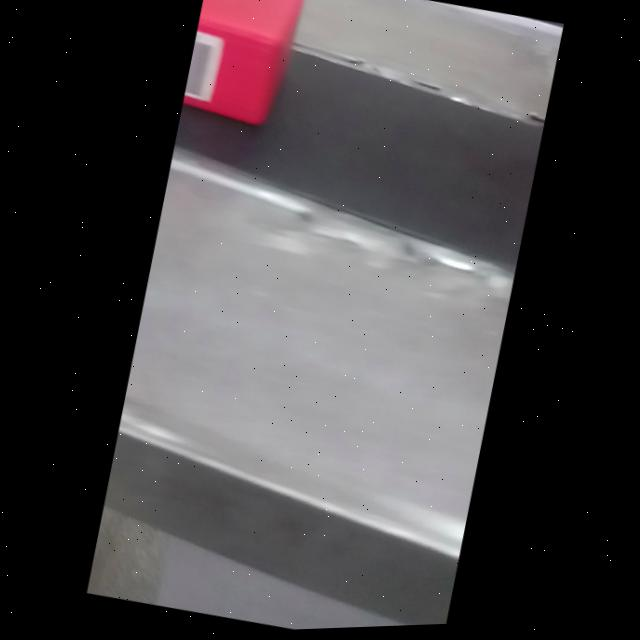redBox: (173, 0, 325, 162)
